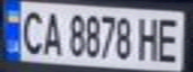7: (100, 11, 118, 58)
8: (63, 9, 87, 57), (81, 11, 103, 58), (115, 12, 136, 61)
A: (39, 7, 66, 56)
C: (15, 6, 48, 56)
E: (154, 14, 187, 63)
H: (136, 14, 163, 62)
